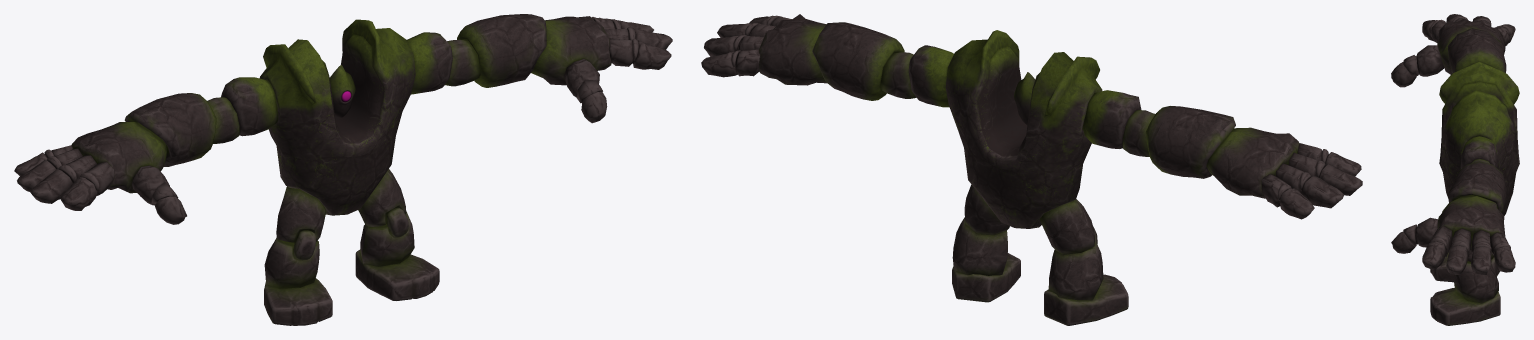
The model's file is Golem.fbx.
3 renders of one model, left to right at view 1: azimuth 30°, elevation 25°; view 2: azimuth 150°, elevation 25°; view 3: azimuth 270°, elevation 25°, orthographic. The views are drawn at different scales.
Parts seen in each view (by area): view 1: Body, Arm_part004, Arm_part045, Arm_part049, Arm_part008, Leg_part001, Leg_part012, Arm_part060, Arm_part002, Leg_part011, Leg_part009, Leg_part004 (+17 smaller); view 2: Body, Arm_part004, Arm_part045, Arm_part049, Arm_part008, Leg_part012, Leg_part011, Arm_part060, Leg_part004, Leg_part009, Arm_part002, Leg_part001 (+13 smaller); view 3: Body, Arm_part008, Arm_part045, Leg_part001, Arm_part004, Leg_part004, Arm_part049, Arm_part002, Arm_part048, Arm_part015, Arm_part009, Arm_part018 (+14 smaller).
Part boxes in pixels (<box>): Body: <box>259,19,415,215</box>; Arm_part004: <box>457,14,546,87</box>; Arm_part045: <box>124,93,216,166</box>; Arm_part049: <box>71,122,166,193</box>; Arm_part008: <box>531,16,611,85</box>; Leg_part001: <box>355,249,439,300</box>; Leg_part012: <box>264,278,332,325</box>; Arm_part060: <box>221,77,278,136</box>; Arm_part002: <box>407,32,452,94</box>; Leg_part011: <box>264,238,319,288</box>; Leg_part009: <box>276,186,325,242</box>; Leg_part004: <box>360,211,414,266</box>; Body: <box>945,30,1102,228</box>; Arm_part004: <box>812,22,904,100</box>; Arm_part045: <box>1146,106,1235,178</box>; Arm_part049: <box>1206,127,1299,198</box>; Arm_part008: <box>759,14,826,85</box>; Leg_part012: <box>1044,274,1128,325</box>; Leg_part011: <box>1048,243,1103,300</box>; Arm_part060: <box>1082,90,1141,148</box>; Leg_part004: <box>952,217,1007,275</box>; Leg_part009: <box>1039,199,1094,255</box>; Arm_part002: <box>908,45,953,107</box>; Leg_part001: <box>952,253,1020,302</box>; Body: <box>1439,61,1519,215</box>; Arm_part008: <box>1437,195,1505,252</box>; Arm_part045: <box>1447,28,1506,73</box>; Leg_part001: <box>1430,288,1500,325</box>; Arm_part004: <box>1448,161,1506,212</box>; Leg_part004: <box>1453,261,1498,303</box>; Arm_part049: <box>1437,18,1505,74</box>; Arm_part002: <box>1460,136,1498,169</box>; Arm_part048: <box>1416,45,1444,76</box>; Arm_part015: <box>1446,245,1468,274</box>; Arm_part009: <box>1422,241,1446,269</box>; Arm_part018: <box>1471,246,1491,274</box>.
Size of the model in its own units: 436 by 172 by 92.97.
